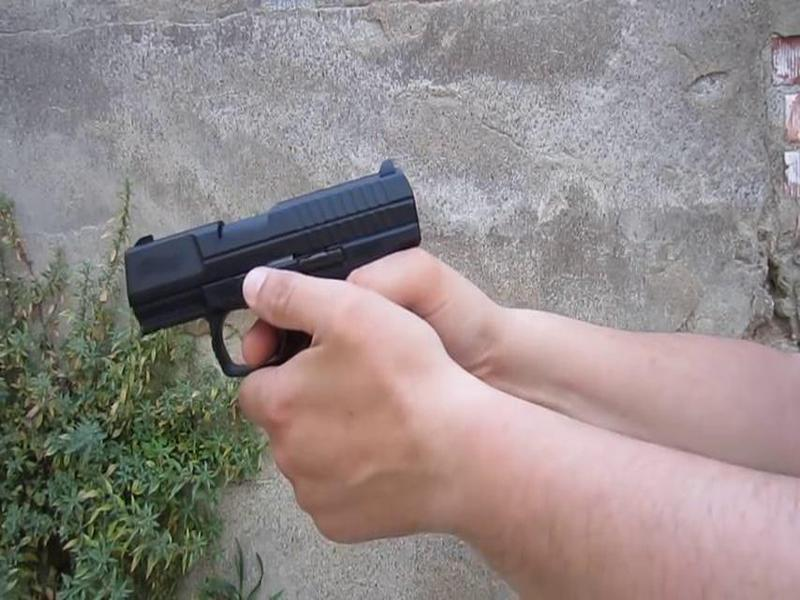Pistola: (115, 134, 437, 379)
